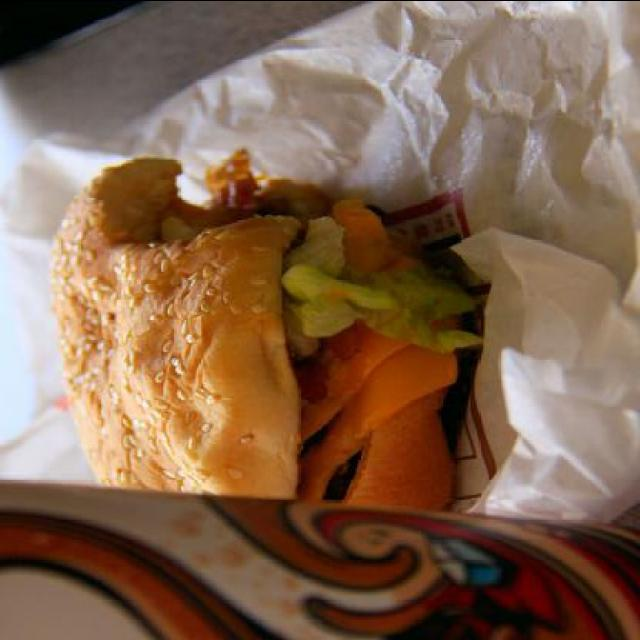Hamburger: (51, 144, 487, 510)
